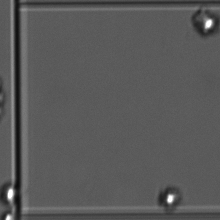Living Cell: (157, 186, 184, 208), (194, 11, 215, 33), (2, 186, 21, 205)
